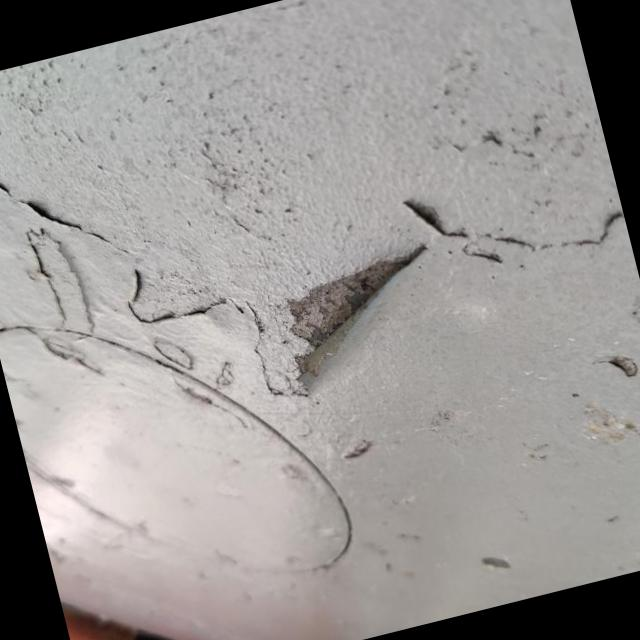Paint-off: (288, 244, 425, 348)
